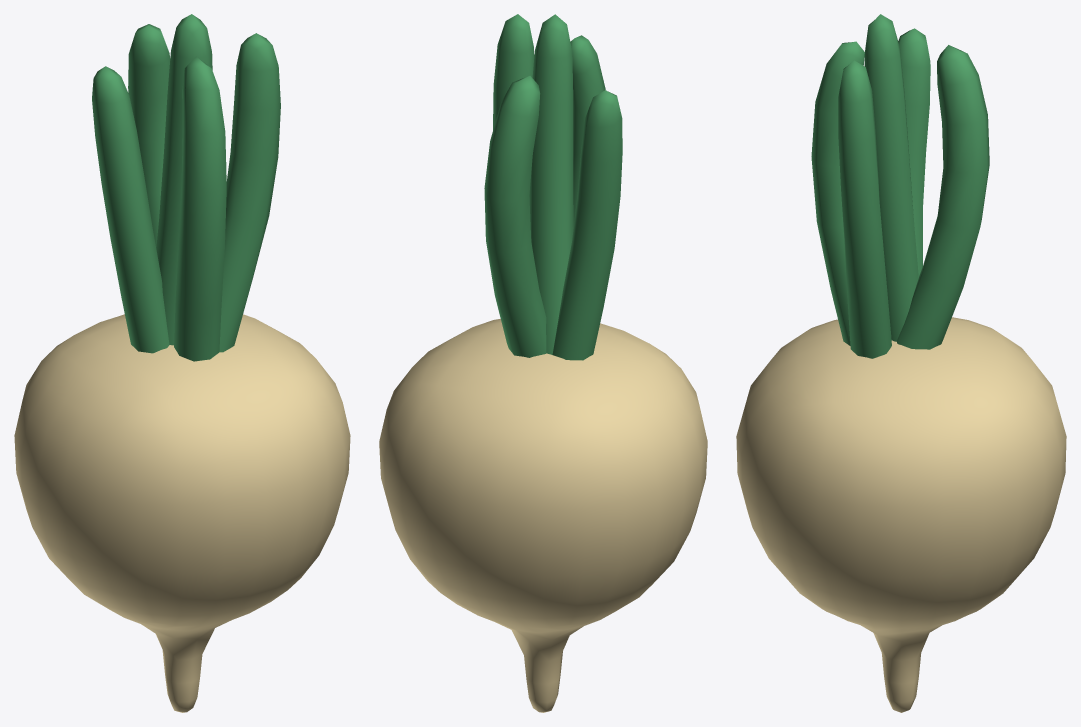
Rendered from Turnip_03.dae.
3 renders of one model, left to right at view 1: azimuth 30°, elevation 25°; view 2: azimuth 150°, elevation 25°; view 3: azimuth 270°, elevation 25°, orthographic. The views are drawn at different scales.
Parts seen in each view (by area): view 1: Turnip_03_LOD0; view 2: Turnip_03_LOD0; view 3: Turnip_03_LOD0.
Boxes of the visible parts, x1,y1,x2,y2 form: Turnip_03_LOD0: (14,14,350,712); Turnip_03_LOD0: (379,14,707,712); Turnip_03_LOD0: (736,14,1066,712).
Size of what is drawn, in the model's own units: 3.53 by 3.53 by 8.25.
